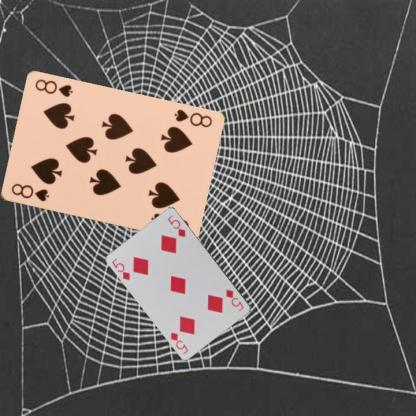5d: (224, 286, 246, 312), (110, 256, 132, 282)
8s: (8, 181, 50, 203), (171, 107, 213, 129)
